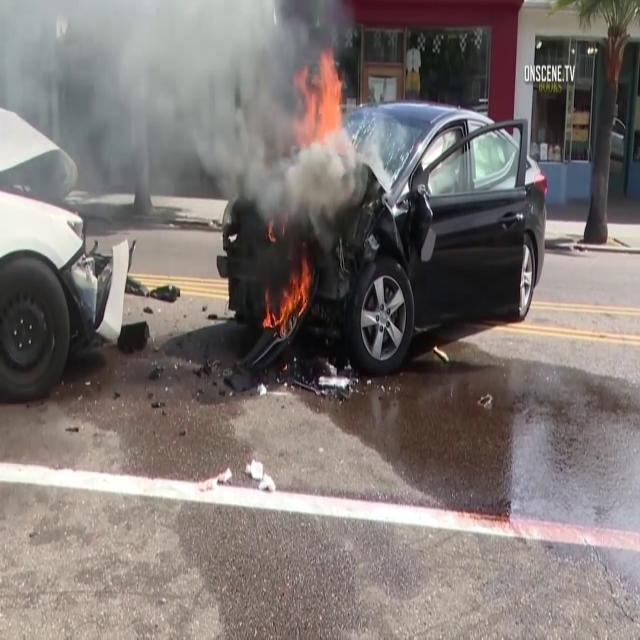Fire: (0, 1, 367, 248), (265, 262, 314, 338), (308, 48, 344, 138)
